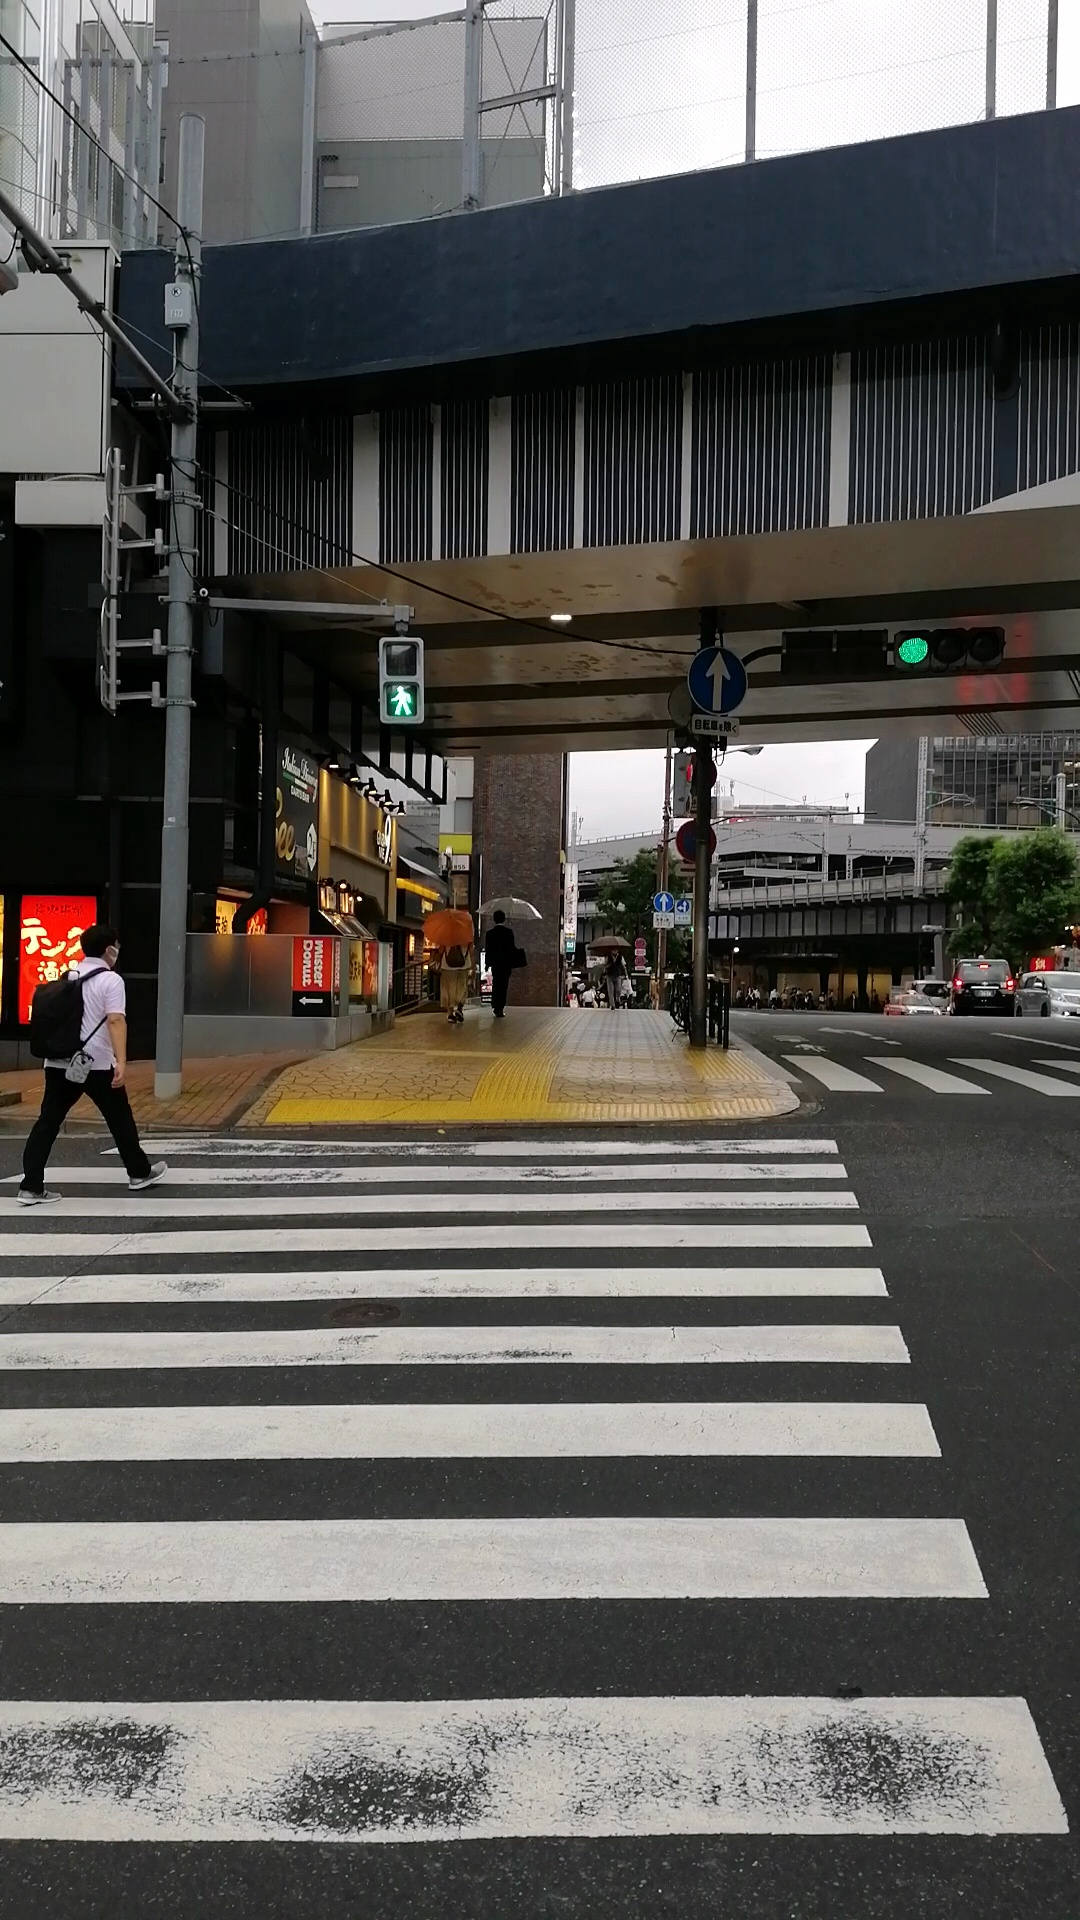green: (373, 633, 426, 727)
